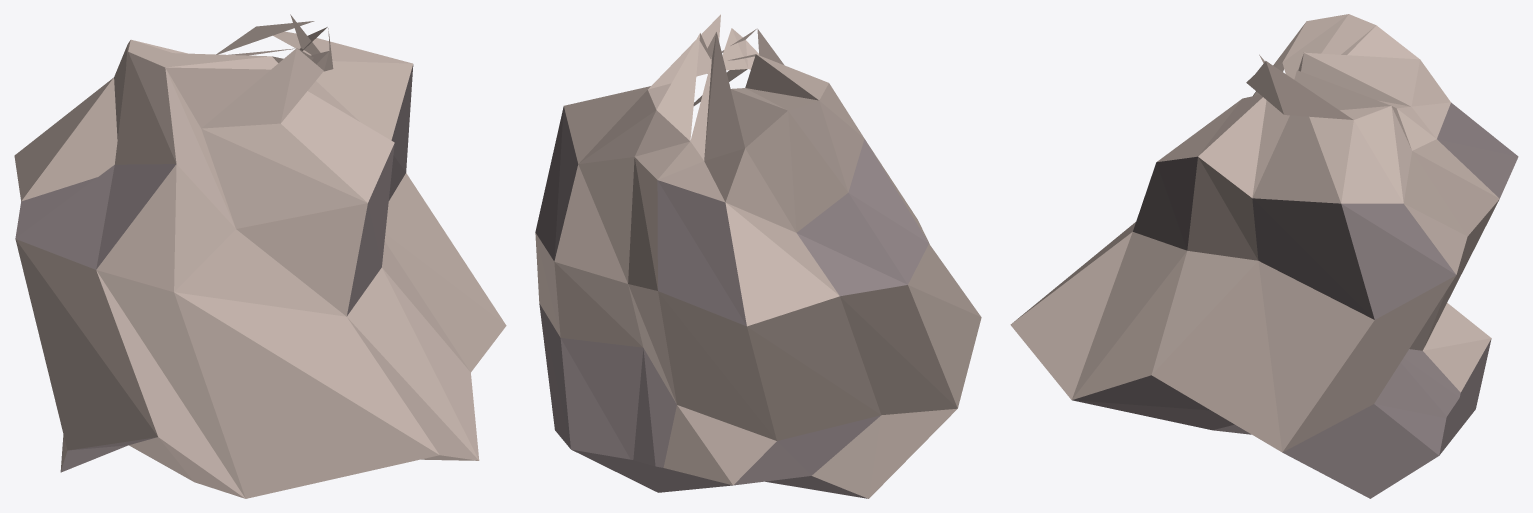
The model's file is eroded_boulder_2.glb.
3 renders of one model, left to right at view 1: azimuth 30°, elevation 25°; view 2: azimuth 150°, elevation 25°; view 3: azimuth 270°, elevation 25°, orthographic. The views are drawn at different scales.
Visible parts, largest first — view 1: eroded_boulder_2; view 2: eroded_boulder_2; view 3: eroded_boulder_2.
Part boxes in pixels (x1,y1,x2,y2): eroded_boulder_2: (14, 14, 506, 498); eroded_boulder_2: (535, 14, 981, 498); eroded_boulder_2: (1010, 14, 1518, 498).
Bounding box in the file's own units: 1.19 × 1.12 × 1.33.
